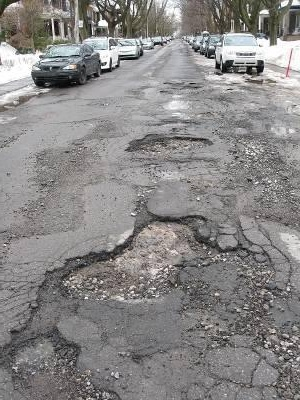pothole: (52, 207, 223, 300), (5, 329, 82, 381), (126, 133, 214, 158)
